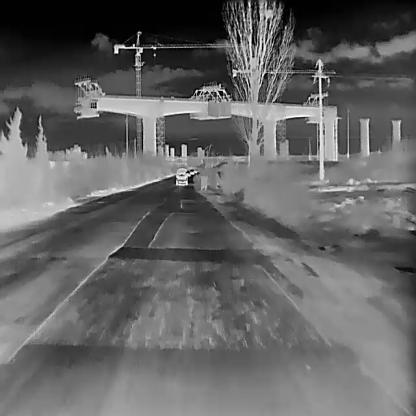car: (176, 168, 187, 186), (189, 168, 193, 174), (186, 171, 190, 176)
